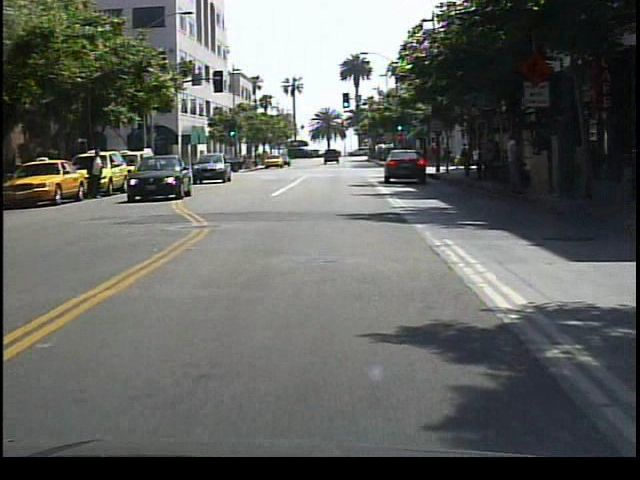person: (501, 130, 528, 201), (87, 147, 108, 211)
